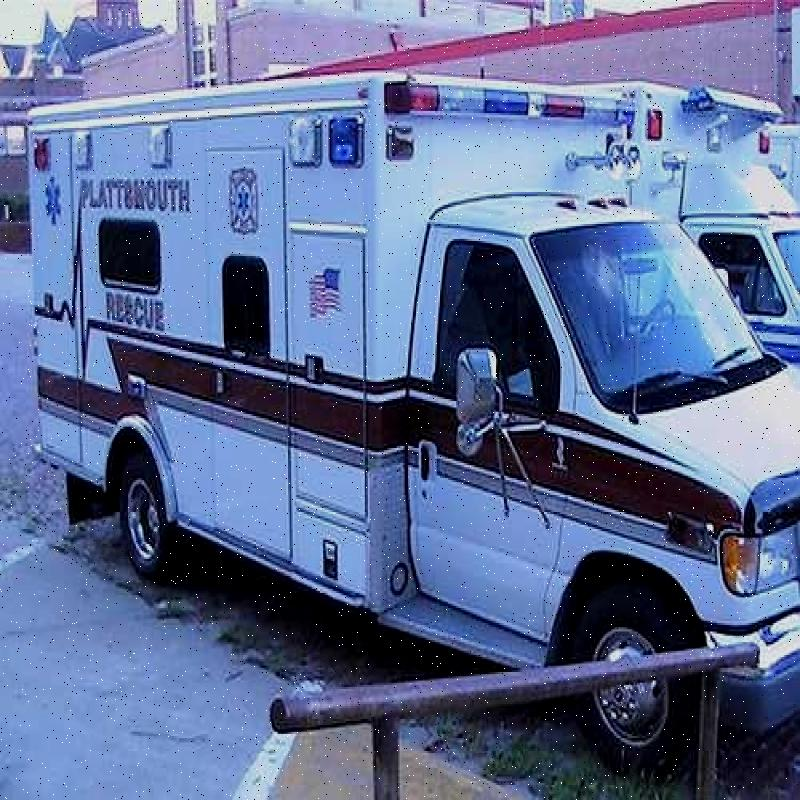AmbulanceSiren: (385, 53, 645, 156)
